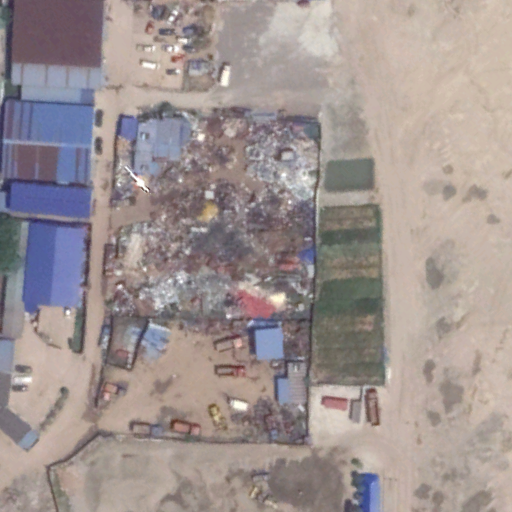msw: (105, 120, 318, 323)
